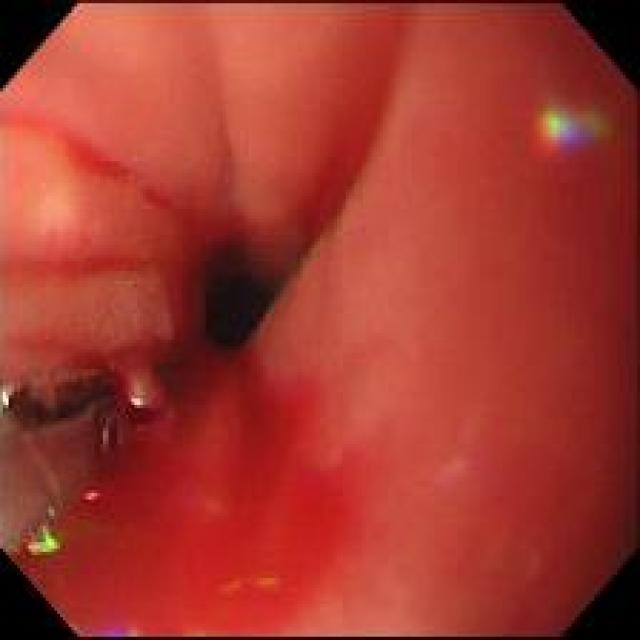blood: (67, 317, 342, 615)
blur: (6, 2, 633, 633)
color misalignment: (538, 100, 604, 155), (22, 524, 61, 554), (101, 622, 133, 636), (81, 487, 101, 502)
contrast: (191, 244, 295, 356)
instrument: (2, 374, 168, 526)
specularity: (0, 383, 12, 413), (2, 384, 14, 411), (133, 391, 146, 408)
